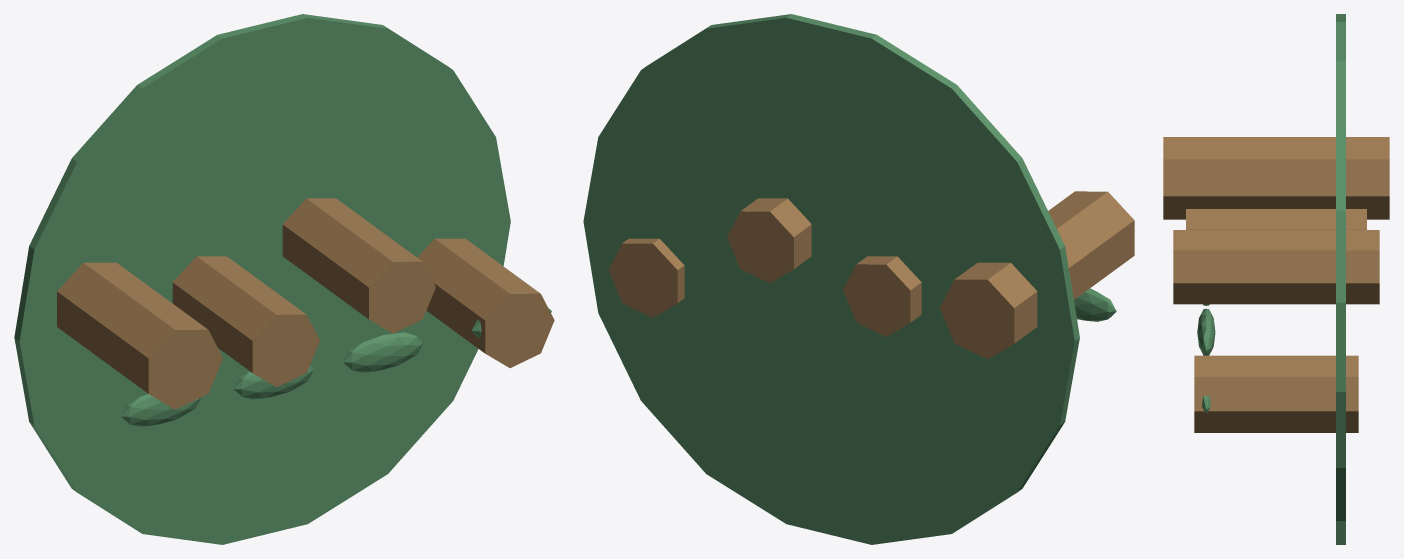
Rendered from 02_local_prop_cluster.glb.
The picture shows the model from 3 angles, left to right: view 1: azimuth 30°, elevation 25°; view 2: azimuth 150°, elevation 25°; view 3: azimuth 270°, elevation 25°; orthographic projection. The views are drawn at different scales.
Parts seen in each view (by area): view 1: scatter_base, root_stump_0, root_stump_2, root_stump_1, root_stump_3, moss_2, moss_0, moss_1; view 2: scatter_base, root_stump_0, root_stump_2, root_stump_1, root_stump_3, moss_0; view 3: root_stump_0, root_stump_2, root_stump_3, scatter_base, root_stump_1, moss_2.
Boxes of the visible parts, x1,y1,x2,y2 form: scatter_base: (14, 14, 510, 544); root_stump_0: (57, 262, 222, 409); root_stump_2: (282, 198, 435, 333); root_stump_1: (172, 256, 319, 387); root_stump_3: (417, 238, 554, 367); moss_2: (343, 332, 423, 372); moss_0: (121, 393, 200, 426); moss_1: (233, 365, 313, 399); scatter_base: (583, 14, 1079, 544); root_stump_0: (940, 191, 1134, 359); root_stump_2: (727, 198, 811, 283); root_stump_1: (843, 256, 921, 336); root_stump_3: (608, 238, 684, 317); moss_0: (1074, 288, 1116, 321); root_stump_0: (1163, 137, 1389, 219); root_stump_2: (1173, 230, 1379, 304); root_stump_3: (1194, 355, 1358, 432); scatter_base: (1336, 14, 1345, 544); root_stump_1: (1186, 209, 1366, 229); moss_2: (1197, 308, 1215, 355).
Bounding box in the file's own units: 1.9 × 1.87 × 0.806.
